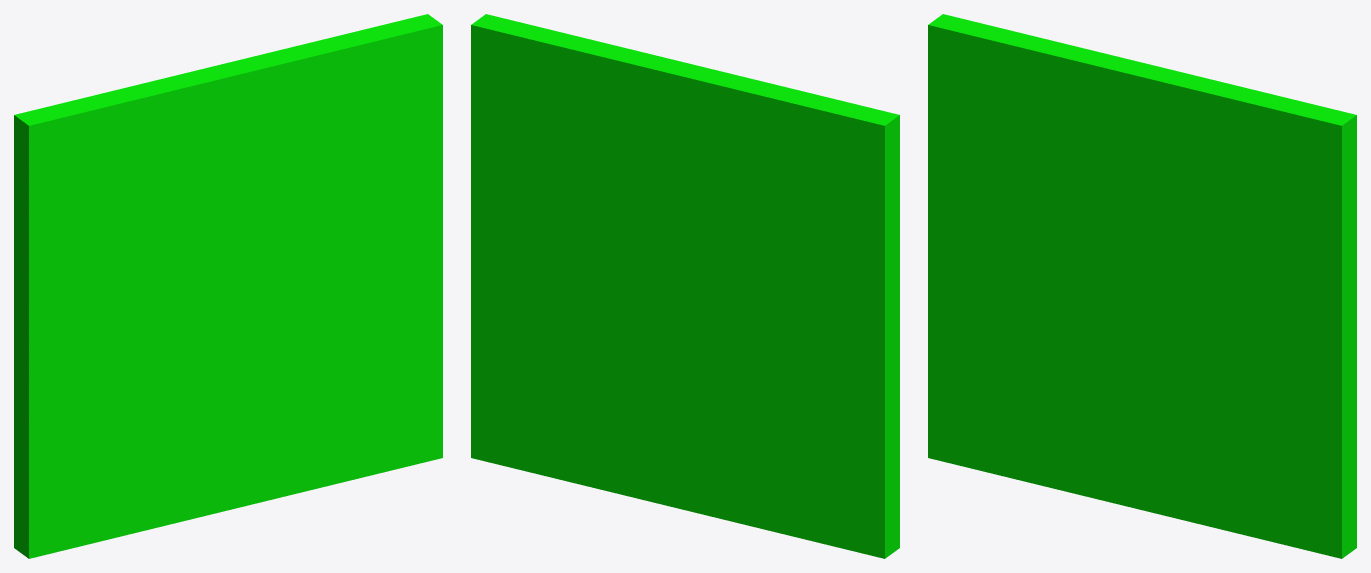
Rendered from Floor.fbx.
The picture shows the model from 3 angles, left to right: view 1: azimuth 30°, elevation 25°; view 2: azimuth 150°, elevation 25°; view 3: azimuth 330°, elevation 25°; orthographic projection.
Parts seen in each view (by area): view 1: generated; view 2: generated; view 3: generated.
Part boxes in pixels (<box>): generated: <box>14,14,442,558</box>; generated: <box>471,14,899,558</box>; generated: <box>928,14,1356,558</box>.
Size of the model in its own units: 160 by 160 by 10.
